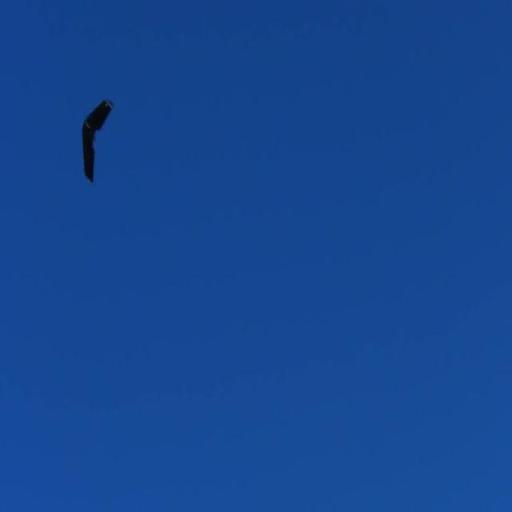uav: (80, 97, 118, 190)
